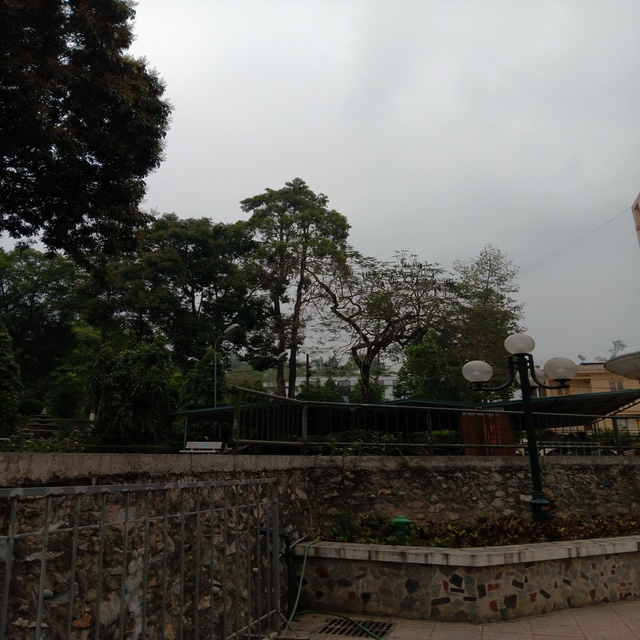cotden: (450, 330, 595, 534)
